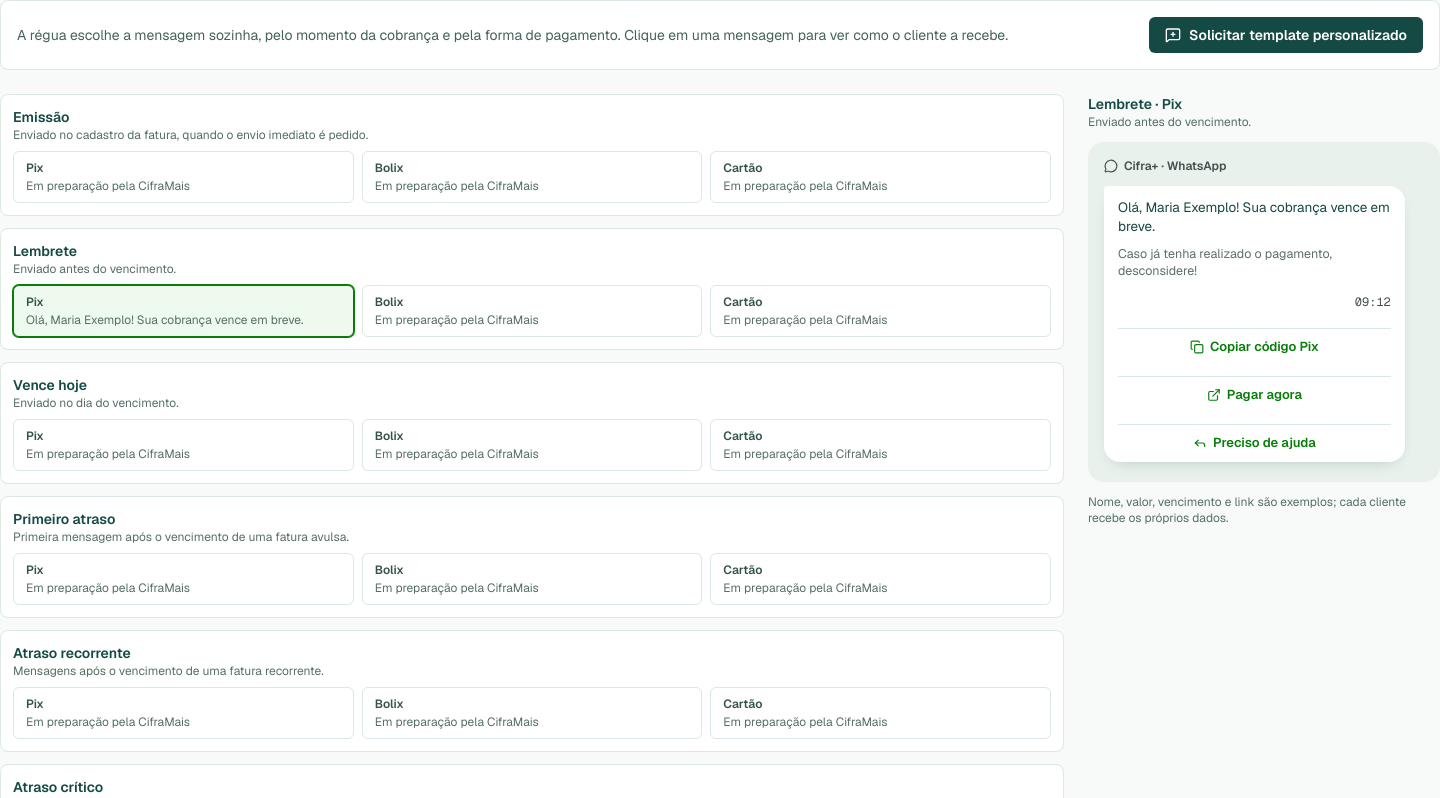
Test: CompanyCollectionTemplates › shows the 18 messages and the preview of the selected one, as the payer reads it
The width and height of the screenshot is (1440, 798).
Expected: the picture named "Prévia da mensagem Lembrete · Pix" shows "Olá, Maria Exemplo! Sua cobrança vence em breve.", [1118,198,1390,235]
Expected: the picture named "Prévia da mensagem Lembrete · Pix" shows "Caso já tenha realizado o pagamento, desconsidere!", [1118,245,1332,279]
Click the button with aria-label "Vence hoje · Cartão" at (881, 445), box [710,419,1051,471]
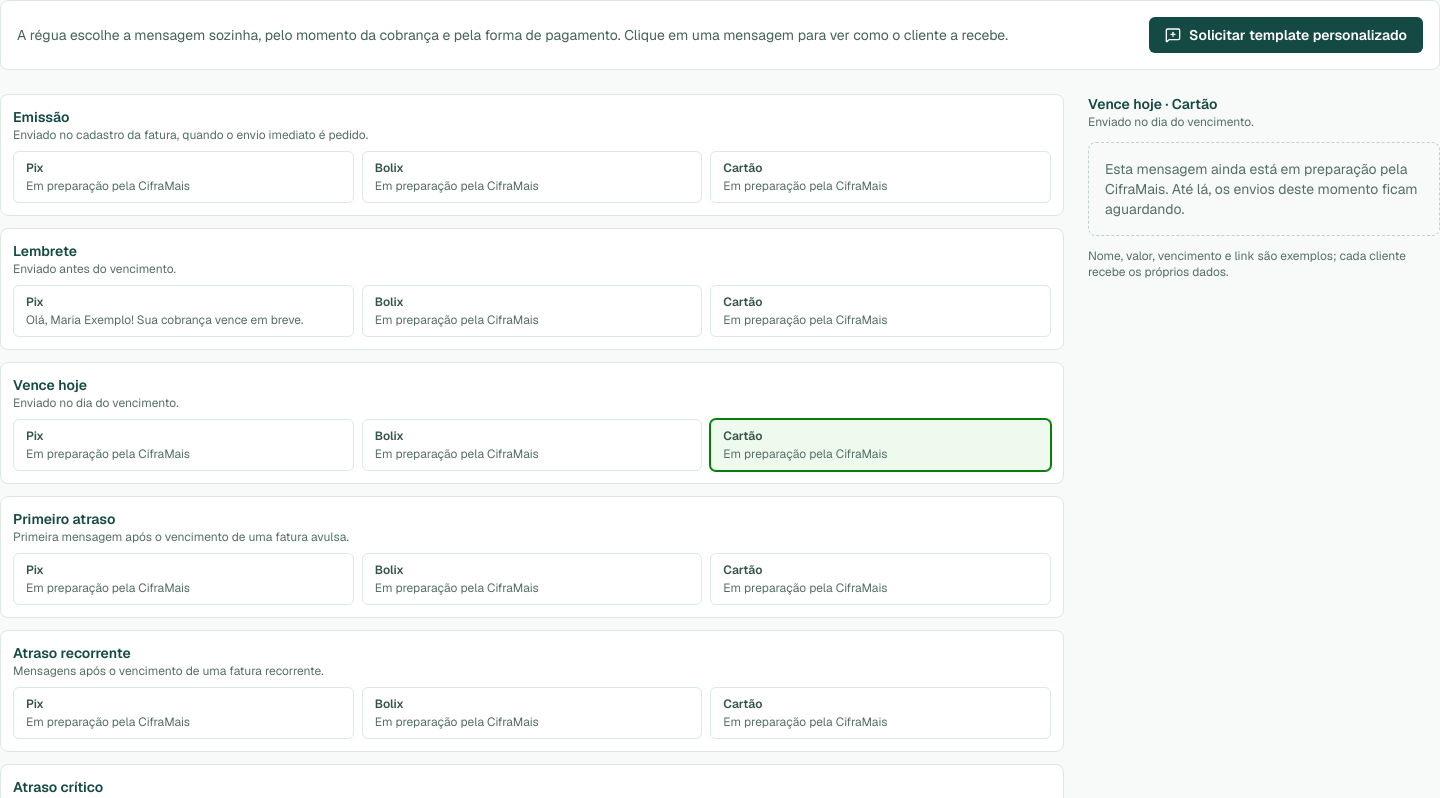
Result: the text "ainda está em preparação pela CifraMais" is shown at [1105,160,1418,218]
